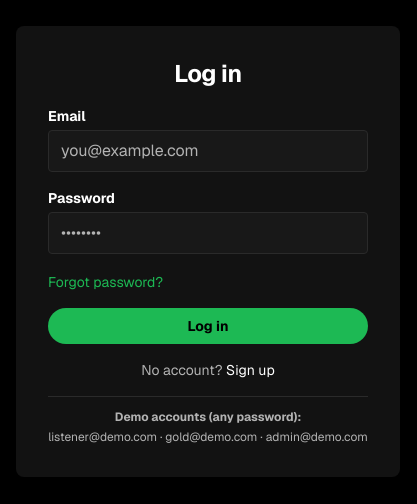
Test: LoginPage › shows an email format error for an invalid email
This screenshot has width=417, height=504.
Type "not-an-email" into the field labelled "Email".
click(208, 150); type("not-an-email")  # box top-left (48, 130), bottom-right (368, 172)
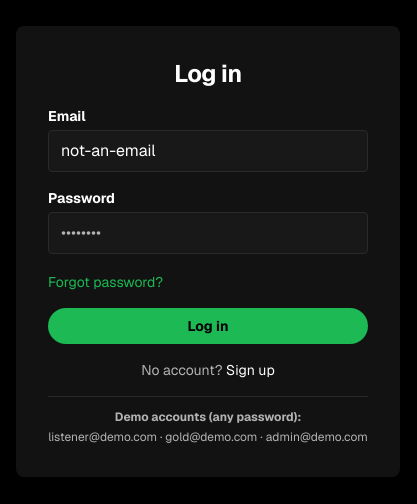
Type "secret" into the password field labelled "Password".
click(208, 232); type("secret")  # box top-left (48, 212), bottom-right (368, 254)
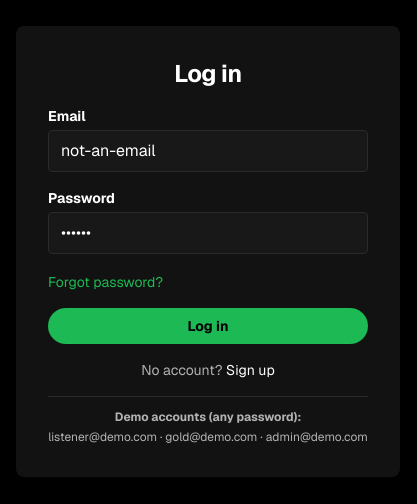
Click the button "Log in".
click(208, 326)  # box top-left (48, 308), bottom-right (368, 344)
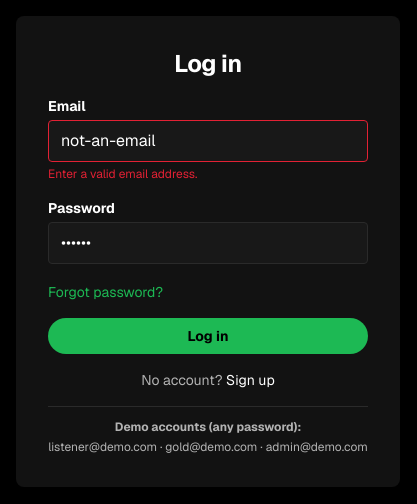
Expected: the text "Enter a valid email address." is shown, top-left (48, 166), bottom-right (198, 182)
